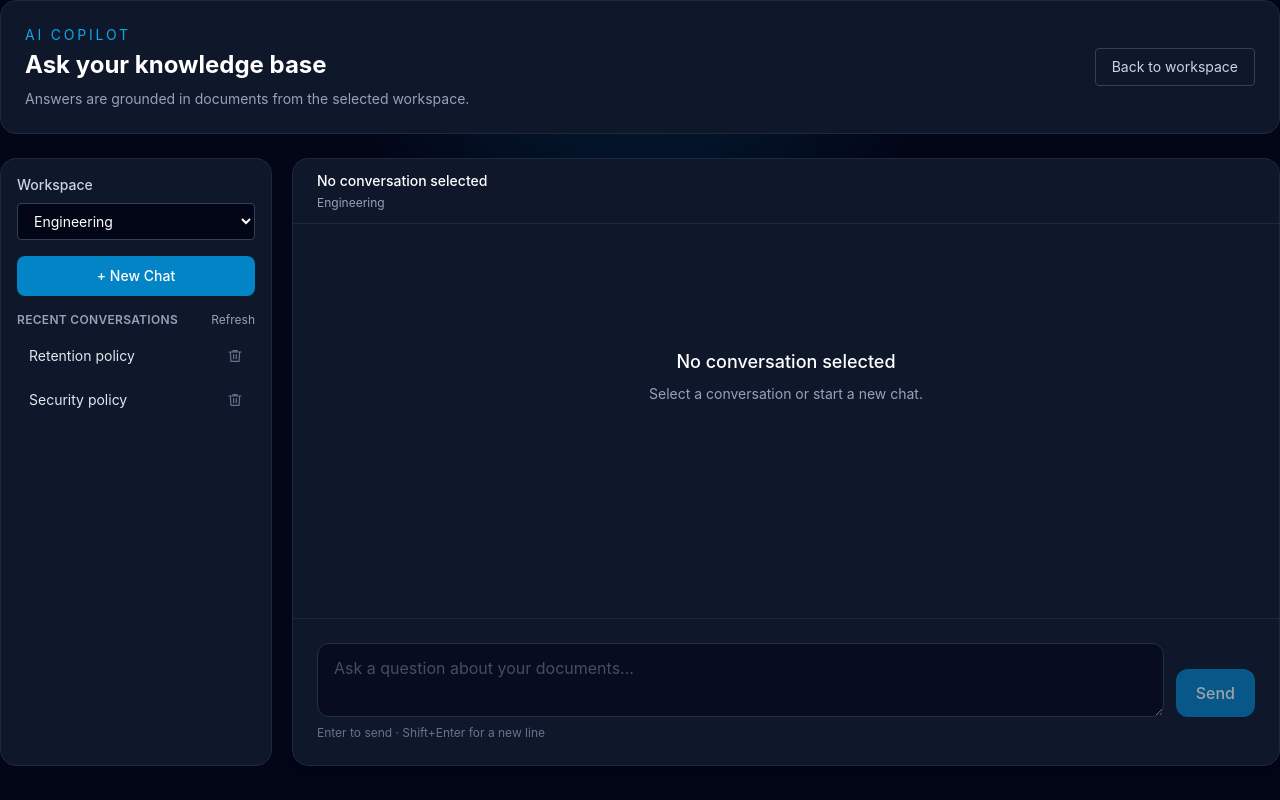
ChatPage › sends a question with the selected conversation ID and refreshes the list
Click the button "Retention policy". click: {"x": 116, "y": 356}
box: [17,336,215,376]
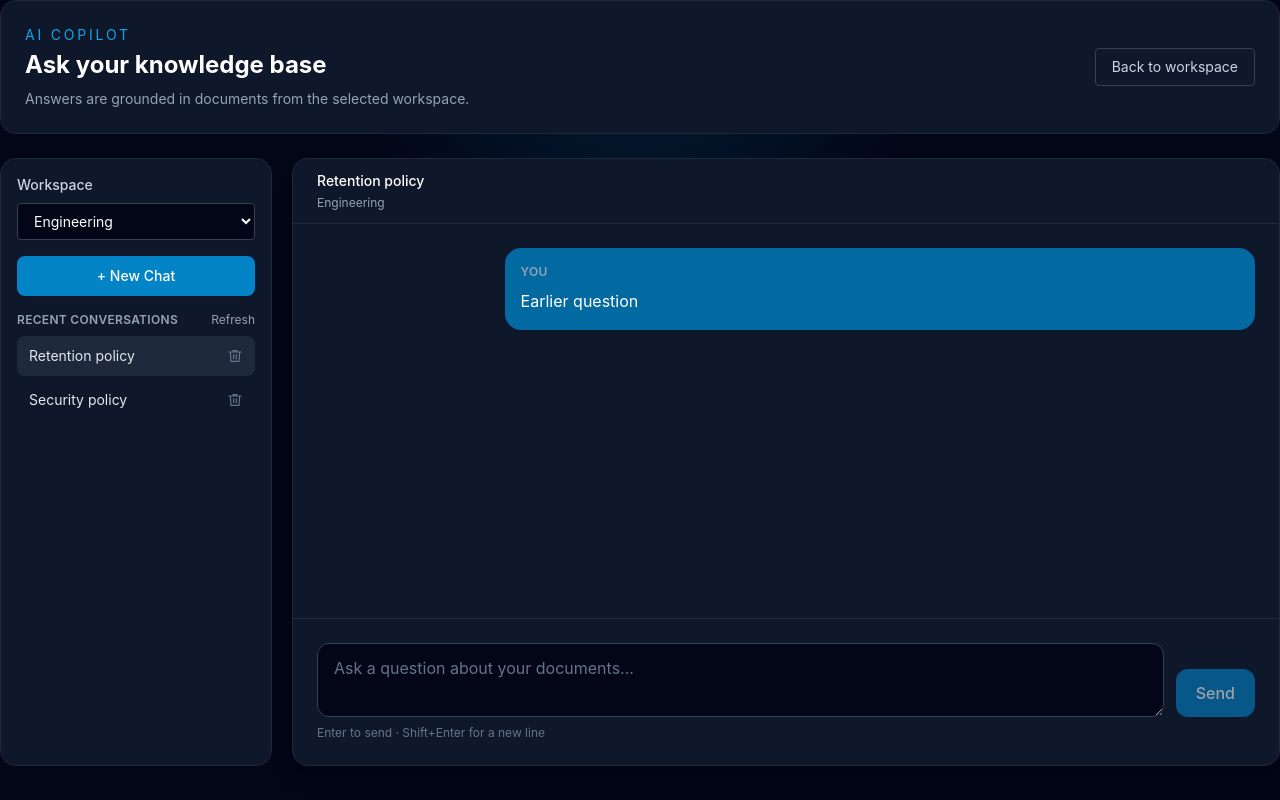
Type "Where is it?" into the text box named "Your question". click: {"x": 740, "y": 680}
box: [317,643,1164,717]
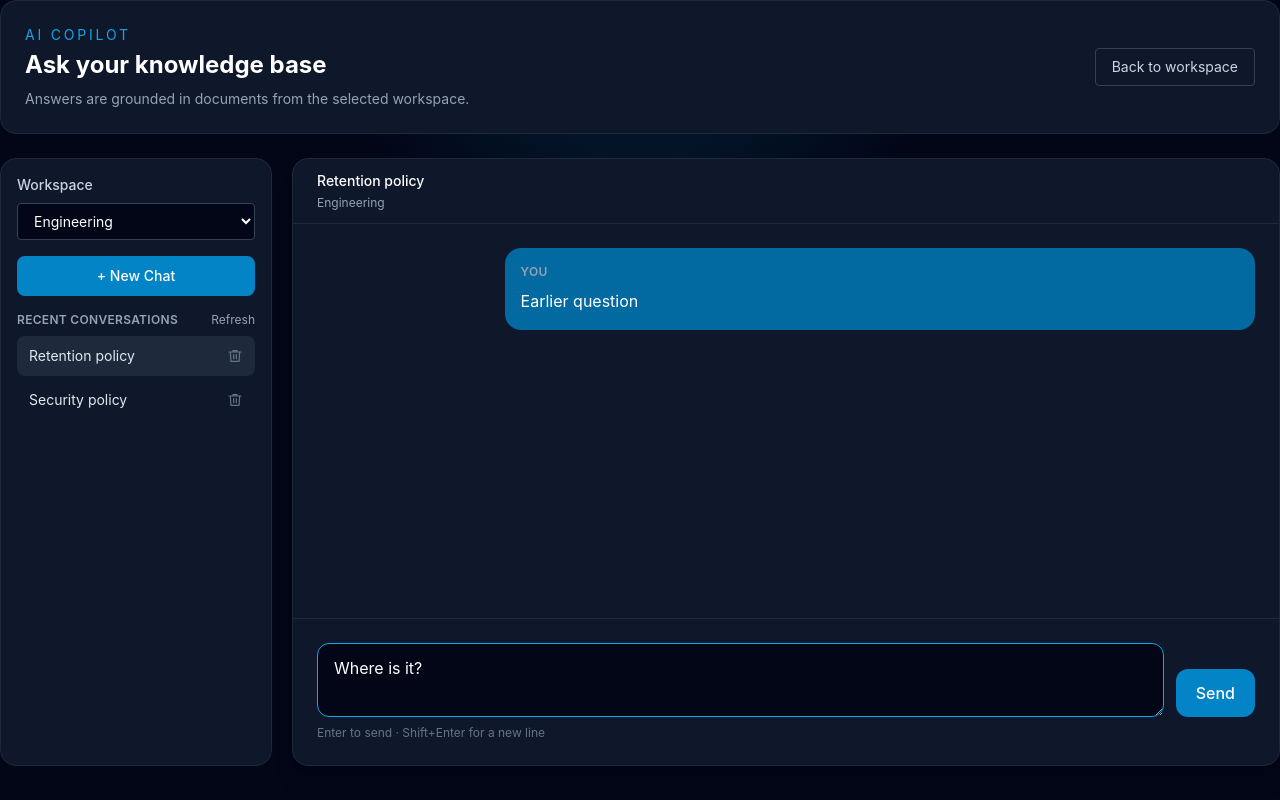
Click the button "Send". click: {"x": 1215, "y": 693}
box: [1176,669,1255,717]
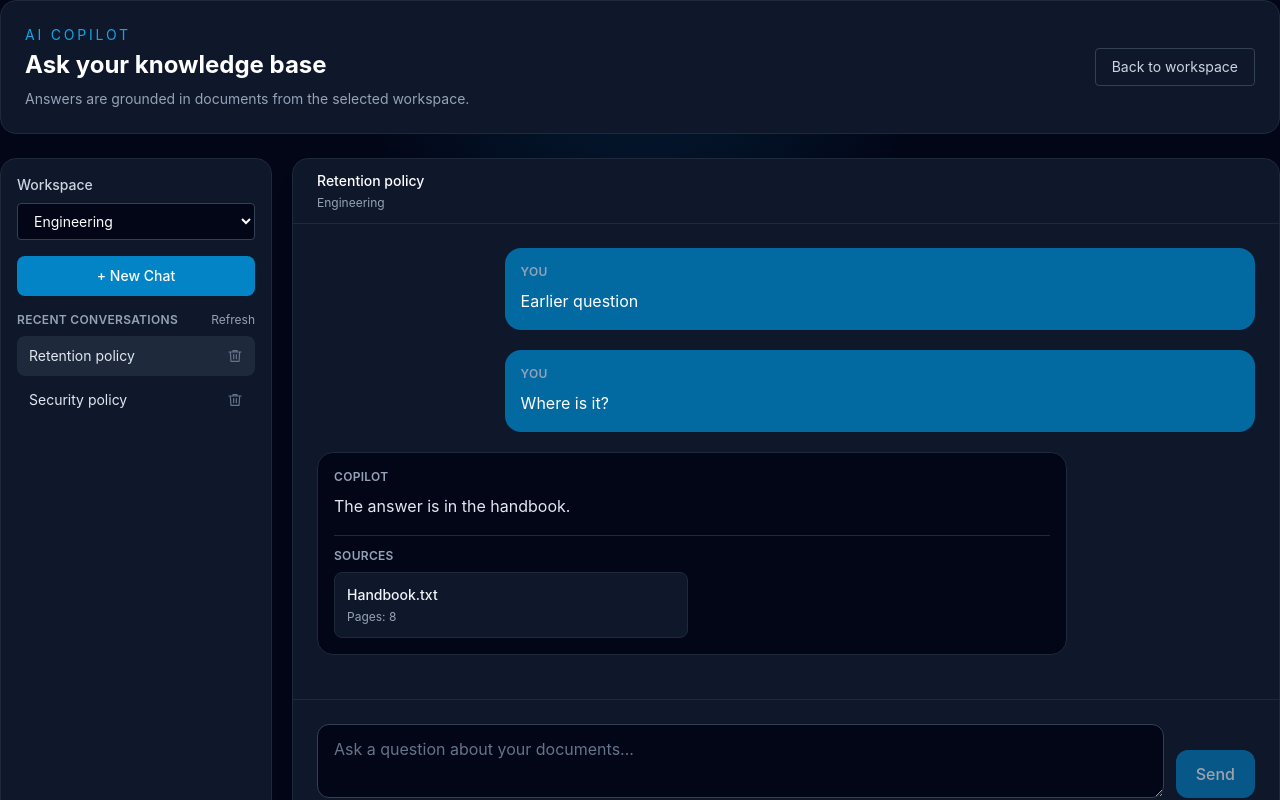
Expected: the text "The answer is in the handbook." is shown, [334,496,570,516]
Expected: the text "Handbook.txt" is shown, [347,586,438,603]
